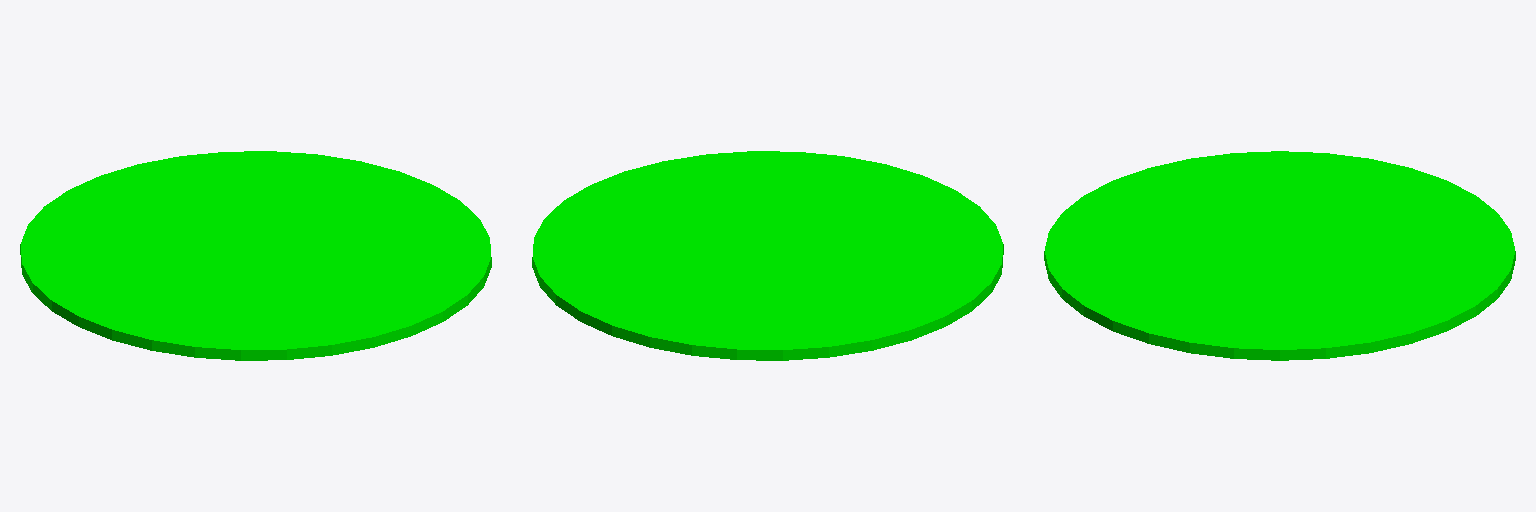
The robot description file, URDF, robot "goal_mark":
<?xml version="0.0" ?>
<robot name="goal_mark">
  <link name="goal_mark">
    <contact>
      <lateral_friction value="0.7"/>
      <rolling_friction value="0.0"/>
      <contact_cfm value="0.0"/>
      <contact_erp value="0.1"/>
    </contact>
    <inertial>
      <origin rpy="0 0 0" xyz="0 0 0"/>
       <mass value=".0"/>
       <inertia ixx=".01" ixy="0" ixz="0" iyy=".01" iyz="0" izz=".01"/>
    </inertial>
    <visual>
      <origin rpy="0 0 0" xyz="0.0 0.0 0.0"/>
      <geometry>
        <cylinder radius="0.02" length="0.001"/>
      </geometry>
      <material name="desert sand">
        <color rgba="0 1 0 1" />
      </material>
    </visual>
  </link>


</robot>

--- Render facts (derived) ---
Views: 3 orthographic renders of the robot side by side, from view 1: azimuth 30°, elevation 25°; view 2: azimuth 150°, elevation 25°; view 3: azimuth 270°, elevation 25°.
Robot: goal_mark — 1 links, 0 joints (none); root link goal_mark; default pose: all joints at 0.
Links seen in each view (by area): view 1: goal_mark; view 2: goal_mark; view 3: goal_mark.
Link boxes in pixels (x1=…): goal_mark: x1=20, y1=151, x2=491, y2=360; goal_mark: x1=532, y1=151, x2=1003, y2=360; goal_mark: x1=1044, y1=151, x2=1515, y2=360.
Bounding box of the posed robot: 0.04 × 0.04 × 0.001 m (x, y, z).
Geometry: primitives only (box / cylinder / sphere), no mesh files.